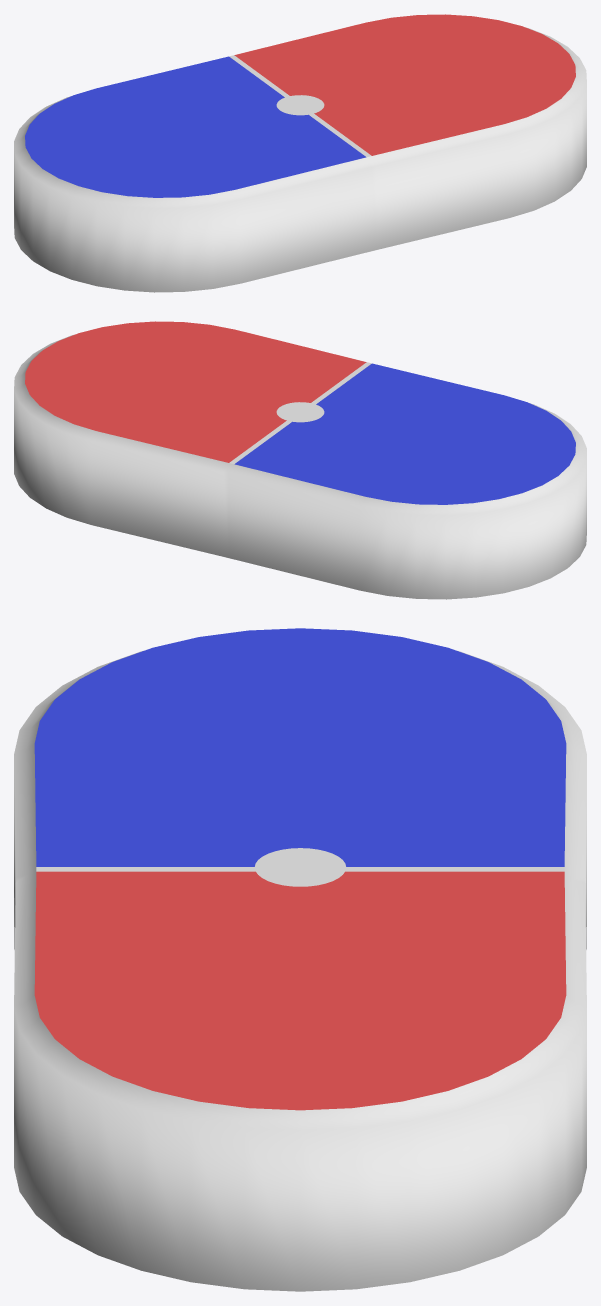
File: PongChamp_Env_ArenaGround.glb
3 renders of one model, top to bottom at view 1: azimuth 30°, elevation 25°; view 2: azimuth 150°, elevation 25°; view 3: azimuth 270°, elevation 25°, orthographic. The views are drawn at different scales.
Visible parts, largest first — view 1: arena floor.001; view 2: arena floor.001; view 3: arena floor.001.
Part boxes in pixels (box(x1,y1,x2,y2)): arena floor.001: box(14, 14, 586, 292); arena floor.001: box(14, 321, 586, 599); arena floor.001: box(14, 628, 586, 1291).
Size of what is drawn, in the model's own units: 81.15 by 13.19 by 39.3.
